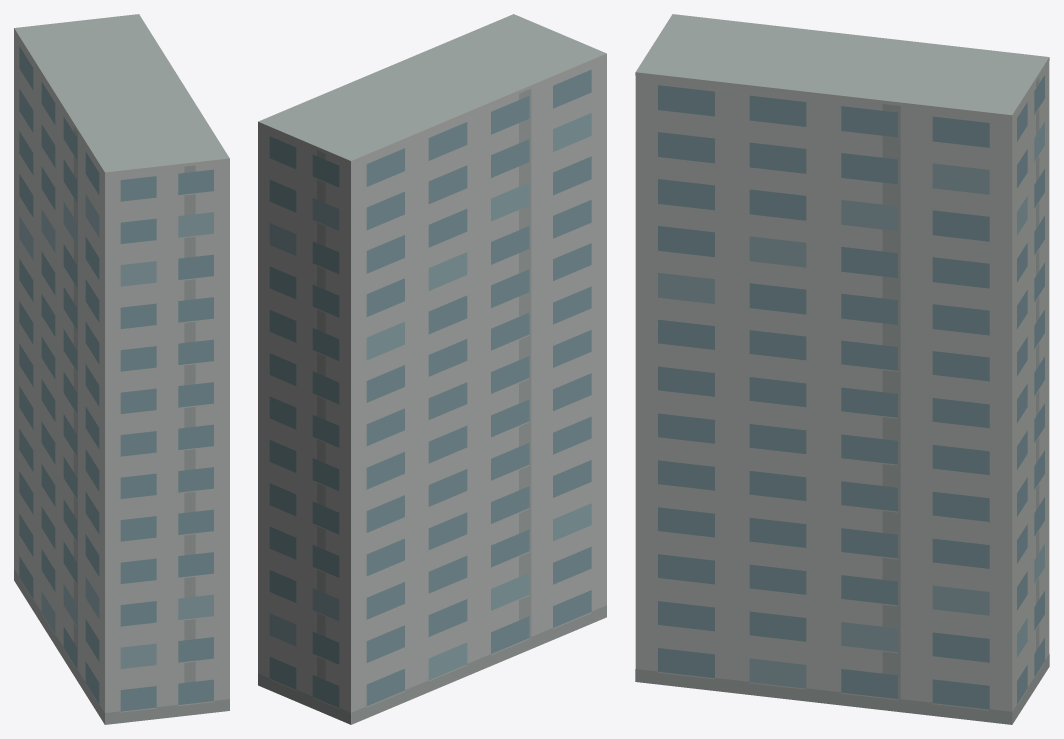
Rendered from residential-d2ef9aa5-22b9-467a-85a6-46f7fc8699c8.glb.
3 views of the same model, side by side, from view 1: azimuth 30°, elevation 25°; view 2: azimuth 150°, elevation 25°; view 3: azimuth 270°, elevation 25° (orthographic). The views are drawn at different scales.
Visible parts, largest first — view 1: residential-d2ef9aa5-22b9-467a-85a6-46f7fc8699c8.tmp; view 2: residential-d2ef9aa5-22b9-467a-85a6-46f7fc8699c8.tmp; view 3: residential-d2ef9aa5-22b9-467a-85a6-46f7fc8699c8.tmp.
Part boxes in pixels (x1,y1,x2,y2): residential-d2ef9aa5-22b9-467a-85a6-46f7fc8699c8.tmp: [14, 14, 229, 724]; residential-d2ef9aa5-22b9-467a-85a6-46f7fc8699c8.tmp: [258, 14, 606, 724]; residential-d2ef9aa5-22b9-467a-85a6-46f7fc8699c8.tmp: [635, 14, 1049, 724].
Size of the model in its own units: 15.32 by 43 by 26.47.
